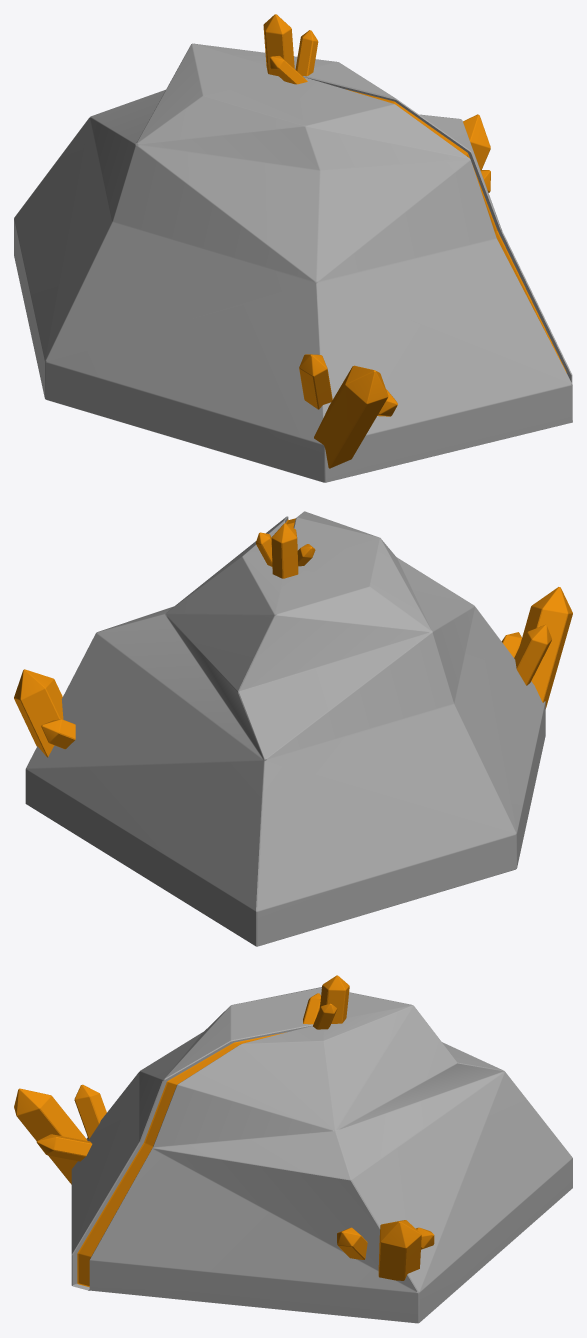
File: Ore.fbx
3 renders of one model, top to bottom at view 1: azimuth 30°, elevation 25°; view 2: azimuth 150°, elevation 25°; view 3: azimuth 270°, elevation 25°, orthographic. The views are drawn at different scales.
Visible parts, largest first — view 1: pCylinder8; view 2: pCylinder8; view 3: pCylinder8.
Part boxes in pixels (box(x1,y1,x2,y2)): pCylinder8: box(14, 14, 572, 482); pCylinder8: box(14, 511, 572, 946); pCylinder8: box(14, 975, 572, 1323).
Bounding box in the file's own units: 108 × 67.63 × 132.
